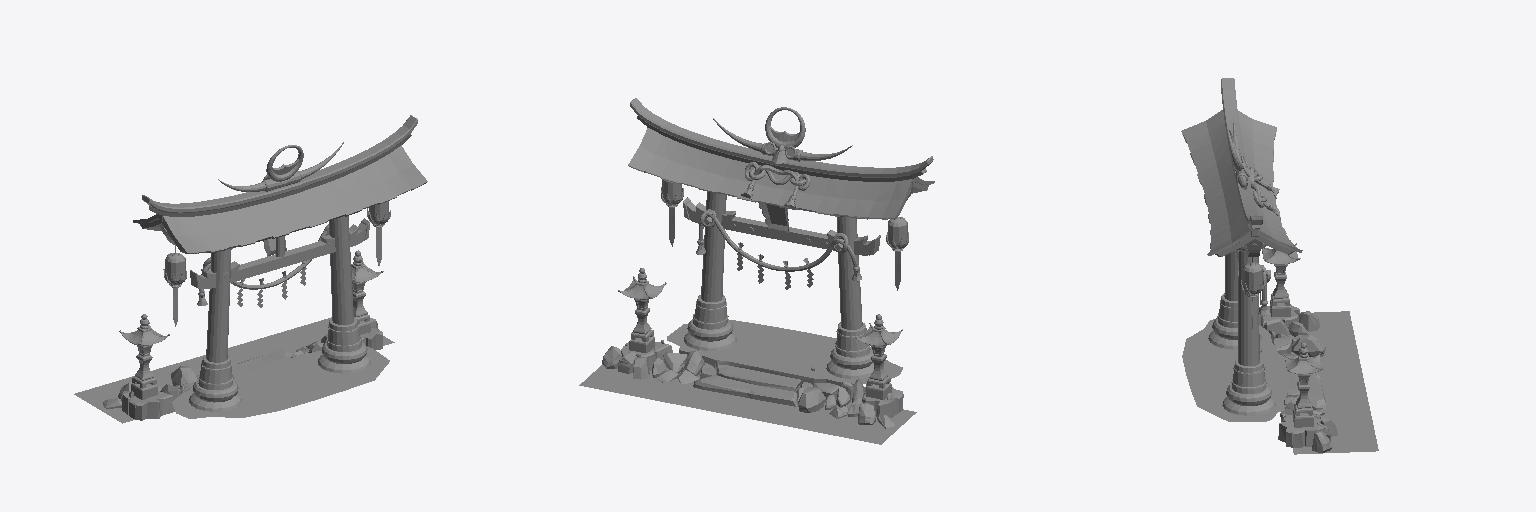
The model's file is torii.obj.
3 renders of one model, left to right at view 1: azimuth 30°, elevation 25°; view 2: azimuth 150°, elevation 25°; view 3: azimuth 270°, elevation 25°, orthographic.
Visible parts, largest first — view 1: Object118_Mesh.001, Object084_Mesh.007, Object120_Mesh.006, Object255_Mesh.005, Plane003_Mesh.008, Object262_Mesh.015, Cylinder003_Mesh.004, Object273_Mesh.022, Object275_Mesh.024, Line008_Mesh.002, Object274_Mesh.023; view 2: Object118_Mesh.001, Object084_Mesh.007, Object120_Mesh.006, Plane003_Mesh.008, Object255_Mesh.005, Object262_Mesh.015, Cylinder003_Mesh.004, Line008_Mesh.002, Object172_Mesh.011, Object273_Mesh.022, Object189_Mesh.009, Object275_Mesh.024 (+1 smaller); view 3: Object118_Mesh.001, Object084_Mesh.007, Plane003_Mesh.008, Object120_Mesh.006, Object262_Mesh.015, Object255_Mesh.005, Object273_Mesh.022, Object172_Mesh.011, Object274_Mesh.023, Cylinder003_Mesh.004.
Boxes of the visible parts, x1=… form: Object118_Mesh.001: x1=133, y1=145, x2=427, y2=389; Object084_Mesh.007: x1=103, y1=318, x2=389, y2=418; Object120_Mesh.006: x1=142, y1=115, x2=417, y2=362; Object255_Mesh.005: x1=139, y1=145, x2=370, y2=411; Plane003_Mesh.008: x1=74, y1=317, x2=394, y2=423; Object262_Mesh.015: x1=119, y1=250, x2=383, y2=399; Cylinder003_Mesh.004: x1=149, y1=134, x2=411, y2=288; Object273_Mesh.022: x1=122, y1=325, x2=382, y2=420; Object275_Mesh.024: x1=163, y1=246, x2=186, y2=326; Line008_Mesh.002: x1=163, y1=175, x2=328, y2=291; Object274_Mesh.023: x1=367, y1=201, x2=390, y2=265; Object118_Mesh.001: x1=628, y1=128, x2=934, y2=357; Object084_Mesh.007: x1=602, y1=320, x2=902, y2=428; Object120_Mesh.006: x1=630, y1=98, x2=933, y2=329; Plane003_Mesh.008: x1=579, y1=364, x2=916, y2=444; Object255_Mesh.005: x1=684, y1=107, x2=929, y2=378; Object262_Mesh.015: x1=618, y1=268, x2=902, y2=399; Cylinder003_Mesh.004: x1=637, y1=116, x2=926, y2=255; Line008_Mesh.002: x1=699, y1=142, x2=910, y2=271; Object172_Mesh.011: x1=652, y1=350, x2=864, y2=416; Object273_Mesh.022: x1=621, y1=342, x2=903, y2=419; Object189_Mesh.009: x1=618, y1=352, x2=853, y2=409; Object275_Mesh.024: x1=886, y1=217, x2=908, y2=290; Object118_Mesh.001: x1=1181, y1=110, x2=1302, y2=393; Object084_Mesh.007: x1=1182, y1=311, x2=1337, y2=452; Plane003_Mesh.008: x1=1289, y1=311, x2=1378, y2=454; Object120_Mesh.006: x1=1221, y1=78, x2=1262, y2=365; Object262_Mesh.015: x1=1262, y1=243, x2=1323, y2=427; Object255_Mesh.005: x1=1208, y1=129, x2=1294, y2=415; Object273_Mesh.022: x1=1259, y1=305, x2=1324, y2=447; Object172_Mesh.011: x1=1263, y1=318, x2=1320, y2=418; Object274_Mesh.023: x1=1241, y1=257, x2=1264, y2=328; Cylinder003_Mesh.004: x1=1233, y1=118, x2=1279, y2=295.
Size of the model in its own units: 7.67 by 6.33 by 4.45.